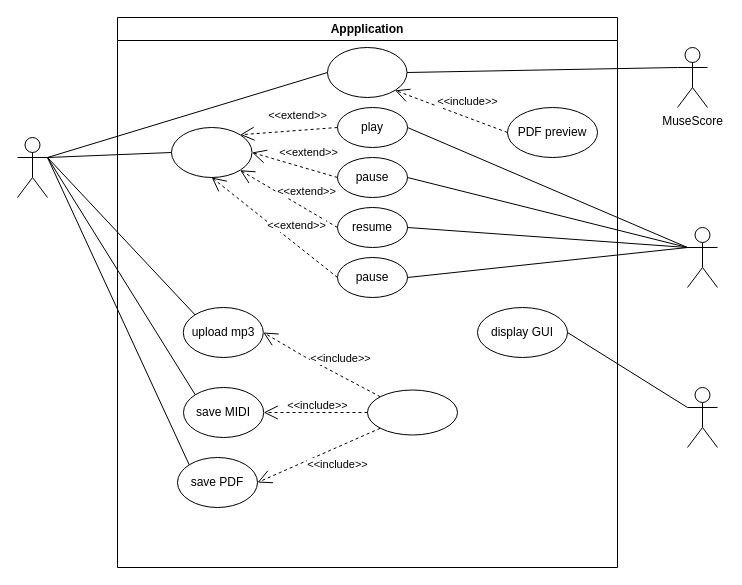
Some shapes in this 742 by 585 pixel diagram are drawn without their labels. Here are the shapes that lost their labels. From the top down, the centre of each, then its label:
At point 366,72: "transcribe".
At point 32,167: "User".
At point 211,152: "control mp3/MIDI playback".
At point 702,257: "VLC".
At point 412,412: "dialog window".
At point 702,417: "X server".
